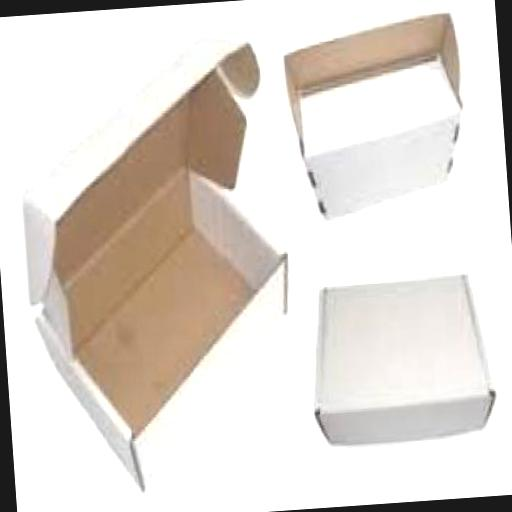cardboard: (9, 23, 302, 498), (276, 4, 468, 218), (302, 270, 495, 448)
